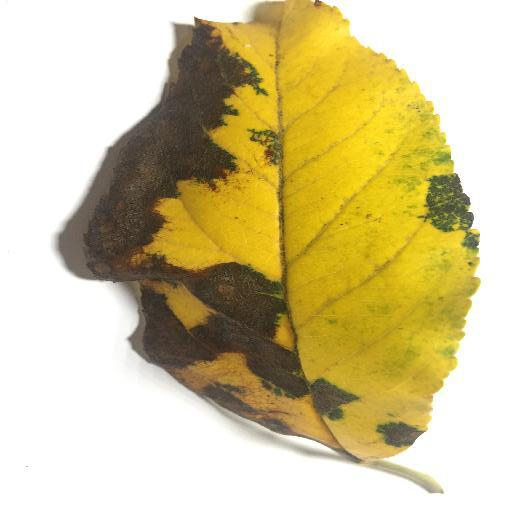Brown_Spot: (61, 14, 302, 442), (419, 170, 496, 258), (308, 375, 349, 420), (378, 421, 425, 440)
